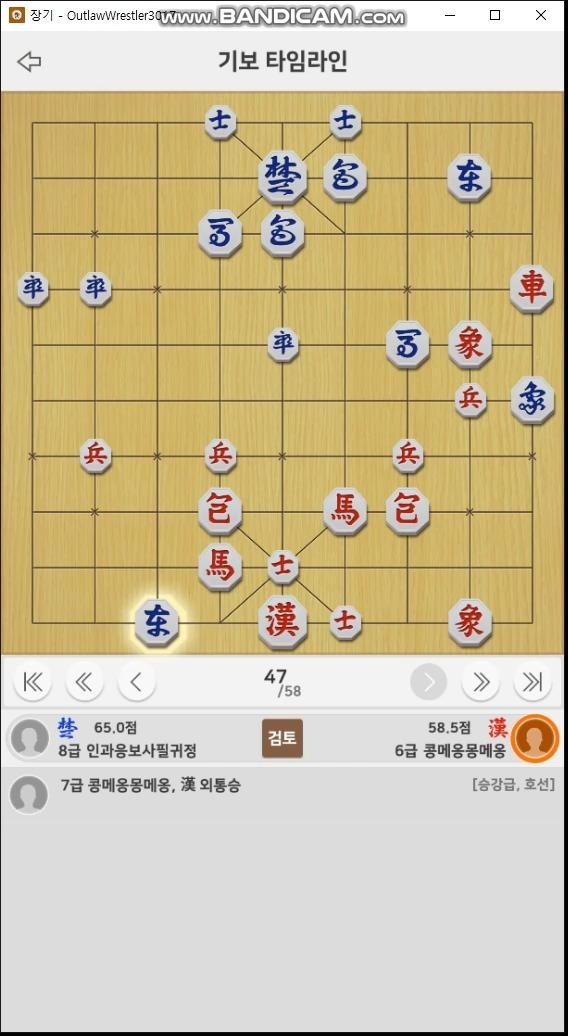cha_green: (449, 151, 491, 202), (135, 601, 180, 643)
cha_red: (512, 266, 553, 313)
jol_green: (265, 327, 301, 363), (15, 271, 51, 307), (80, 270, 115, 306)
jol_red: (204, 440, 236, 475), (81, 440, 112, 475), (393, 439, 423, 475), (456, 384, 486, 419)
ma_green: (196, 208, 242, 256), (385, 322, 431, 369)
ma_red: (196, 543, 244, 590), (325, 487, 367, 535)
po_green: (258, 211, 306, 255), (325, 154, 366, 201)
po_red: (197, 487, 243, 534), (387, 488, 430, 534)
sa_green: (203, 104, 238, 140), (329, 106, 363, 138)
sa_red: (266, 547, 299, 584), (330, 605, 361, 639)
sang_green: (512, 376, 556, 424)
sang_red: (450, 322, 491, 372), (449, 599, 491, 646)
wang_green: (257, 149, 308, 203)
wang_red: (257, 597, 308, 644)
